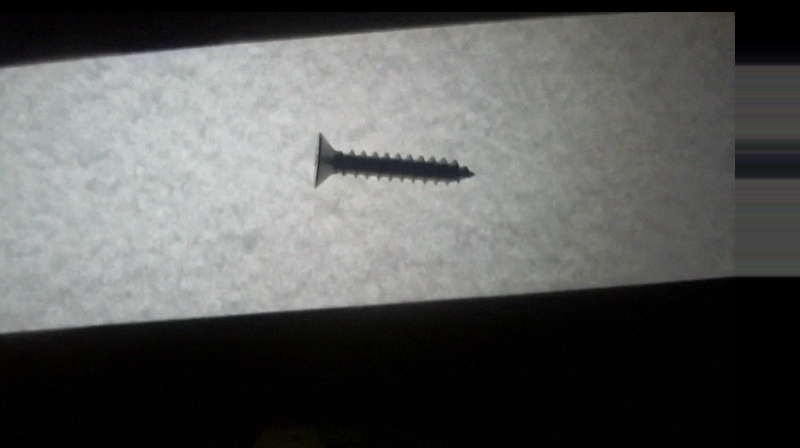S001: (310, 132, 478, 195)
